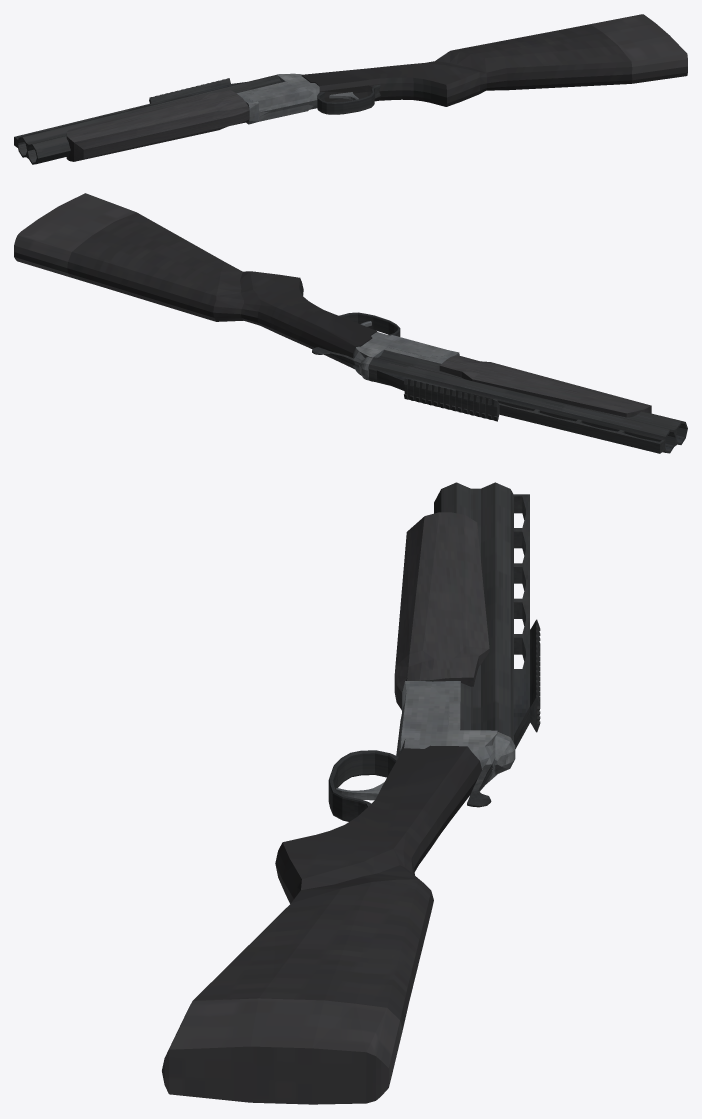
File: shotgun.obj
3 views of the same model, one above another, from view 1: azimuth 30°, elevation 25°; view 2: azimuth 150°, elevation 25°; view 3: azimuth 270°, elevation 25° (orthographic). The views are drawn at different scales.
Parts seen in each view (by area): view 1: Object_8; view 2: Object_8; view 3: Object_8.
Boxes of the visible parts, box(x1,y1,x2,y2) form: Object_8: box(14, 14, 687, 164); Object_8: box(14, 193, 687, 453); Object_8: box(162, 482, 540, 1104).
Bounding box in the file's own units: 63.07 × 2.87 × 17.52.
